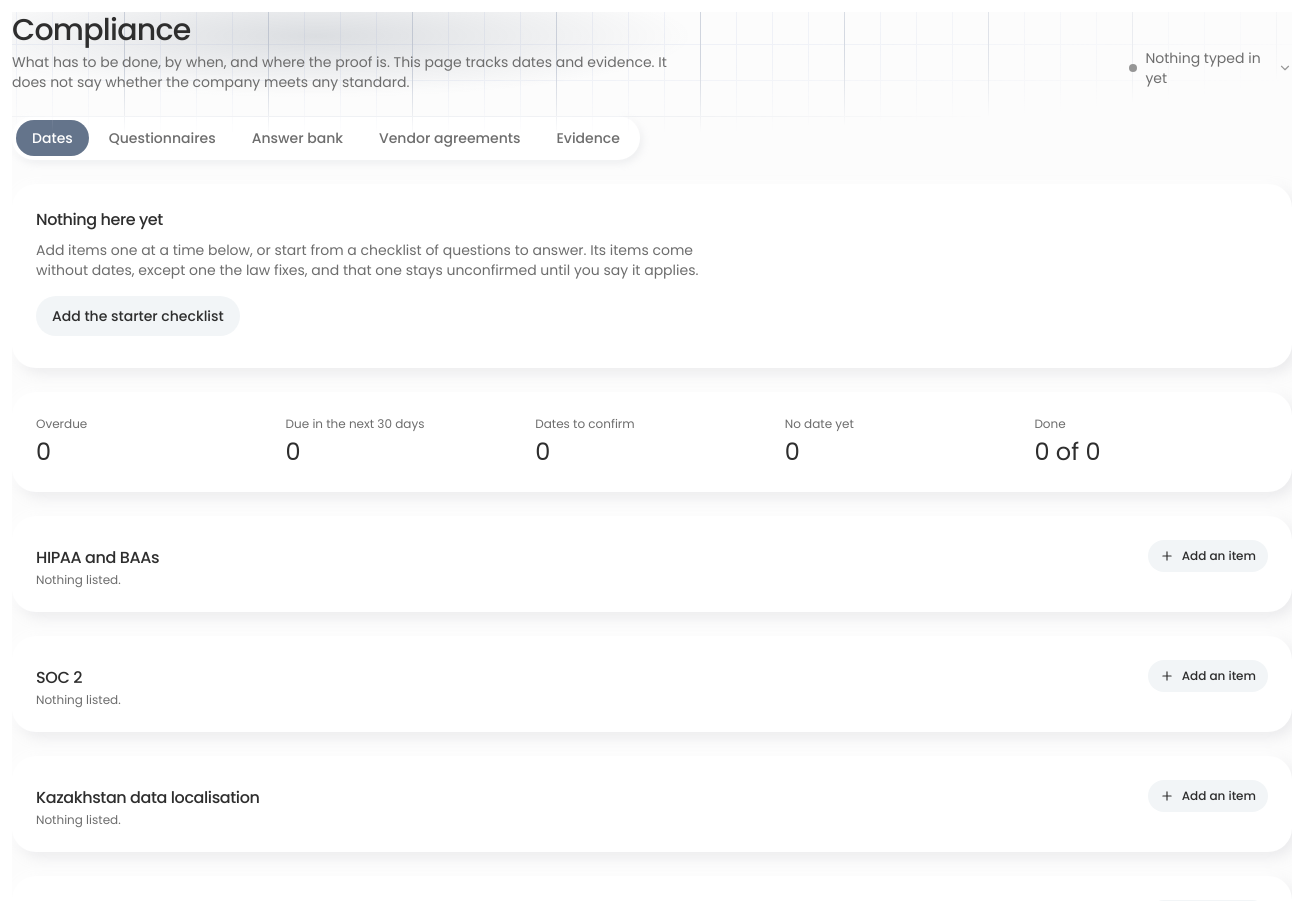
Test: the compliance page › a failure to add it is shown
The width and height of the screenshot is (1304, 901).
Click the button "Add the starter checklist": x=138, y=316 left=36, top=296, right=240, bottom=336
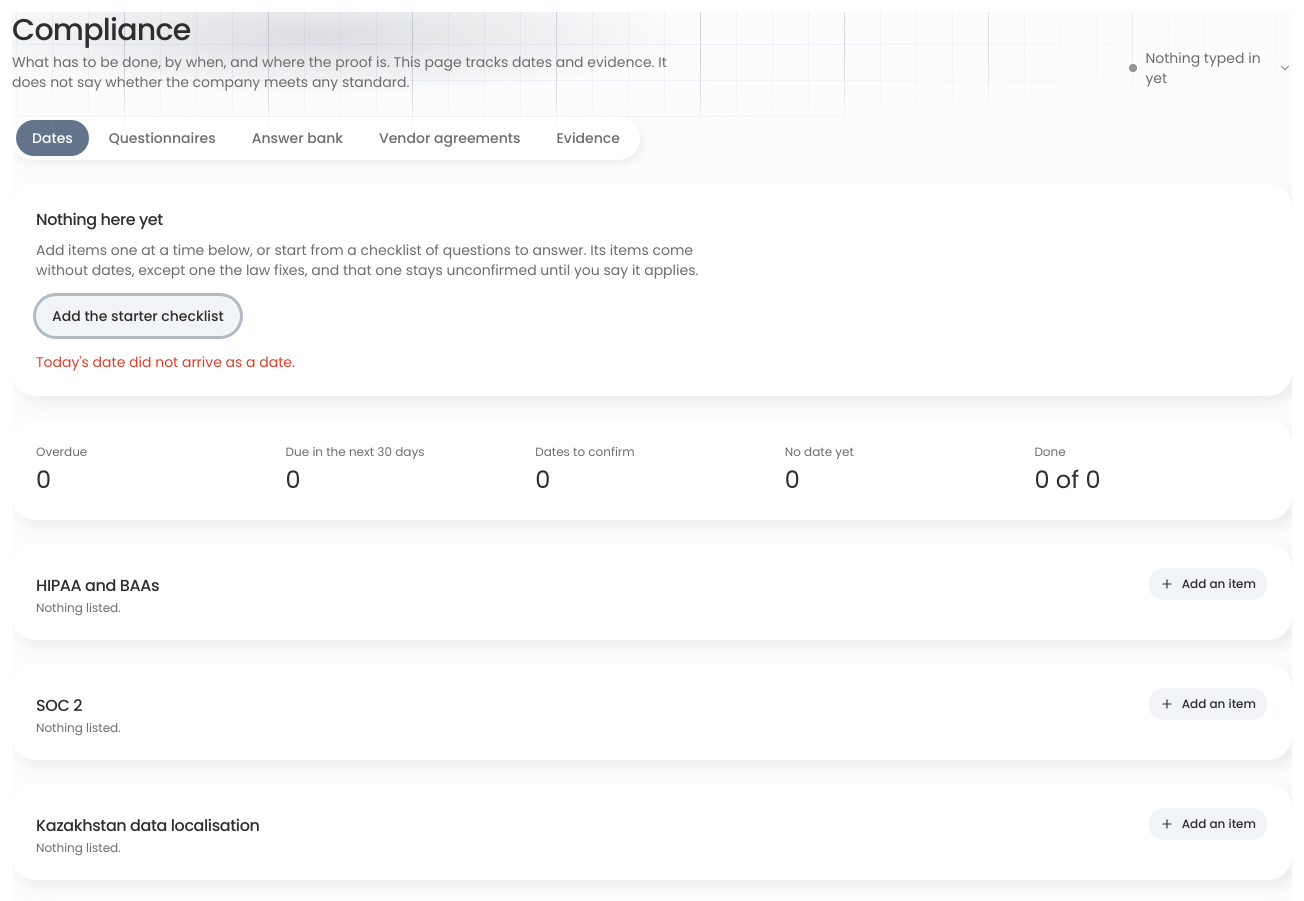
Check: the message reads "Today's date did not arrive as a date.", box left=36, top=352, right=295, bottom=372
